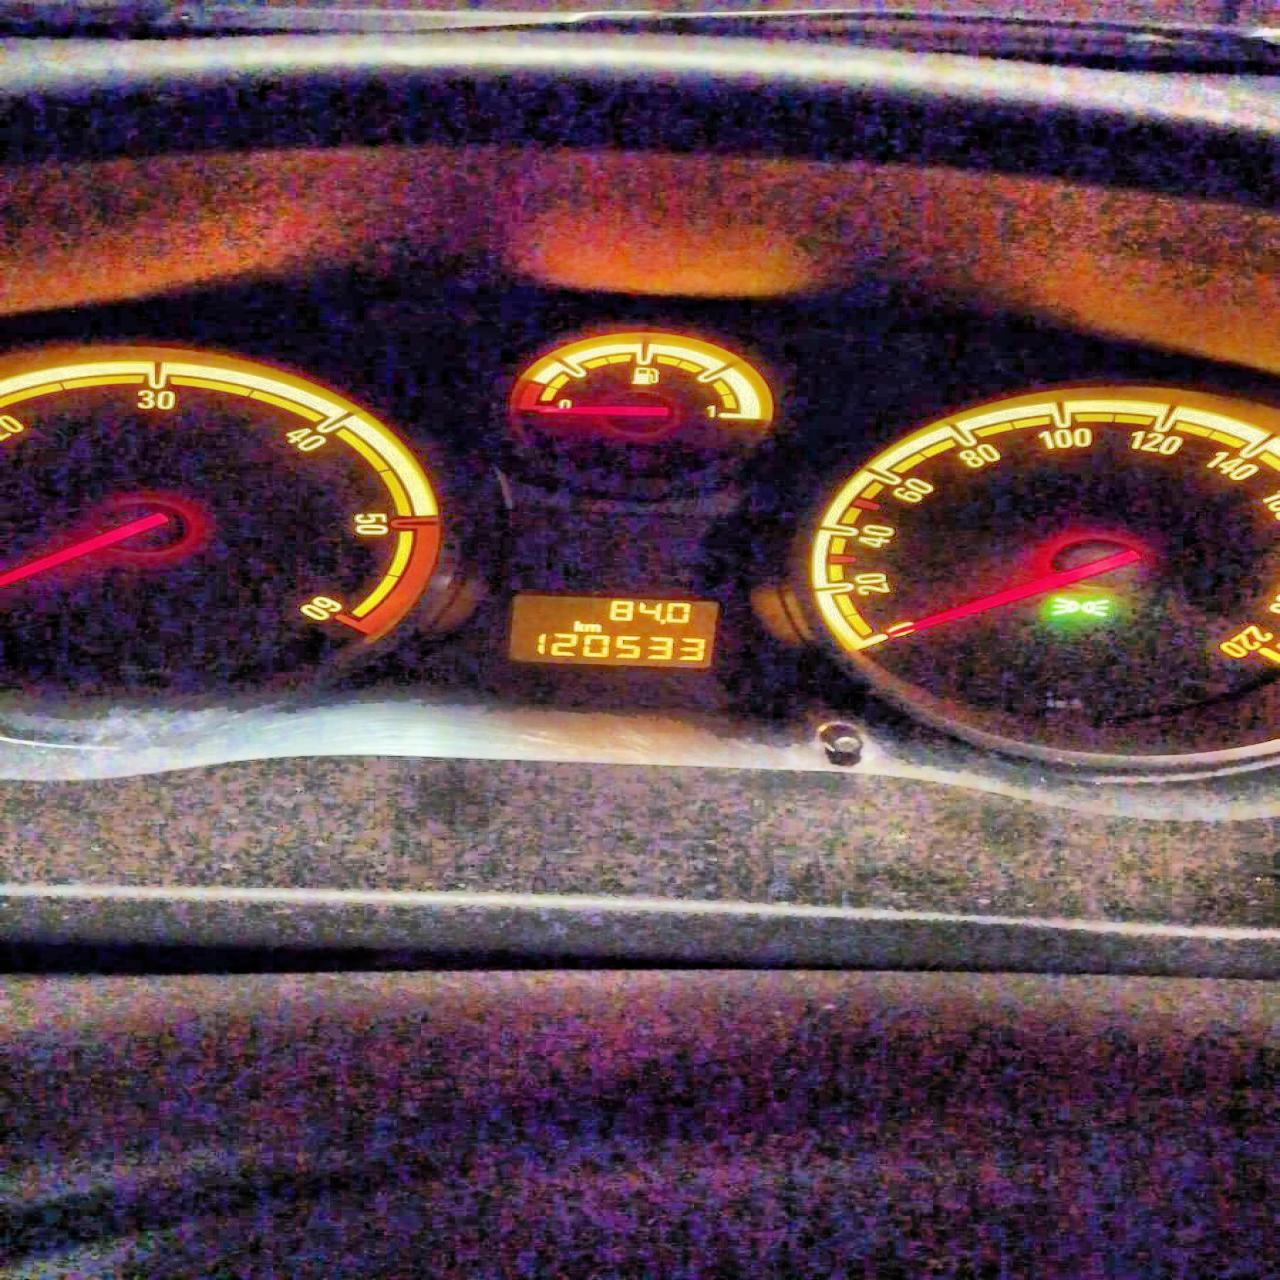-: (659, 618, 666, 625)
0: (580, 633, 608, 656), (665, 602, 689, 622)
1: (535, 633, 546, 654)
2: (547, 633, 578, 656)
3: (646, 635, 673, 659), (678, 638, 704, 660)
4: (636, 601, 661, 620)
5: (613, 635, 640, 659)
8: (610, 600, 633, 621)
X: (584, 622, 601, 632), (572, 620, 584, 632)
odometer: (502, 593, 720, 669)
